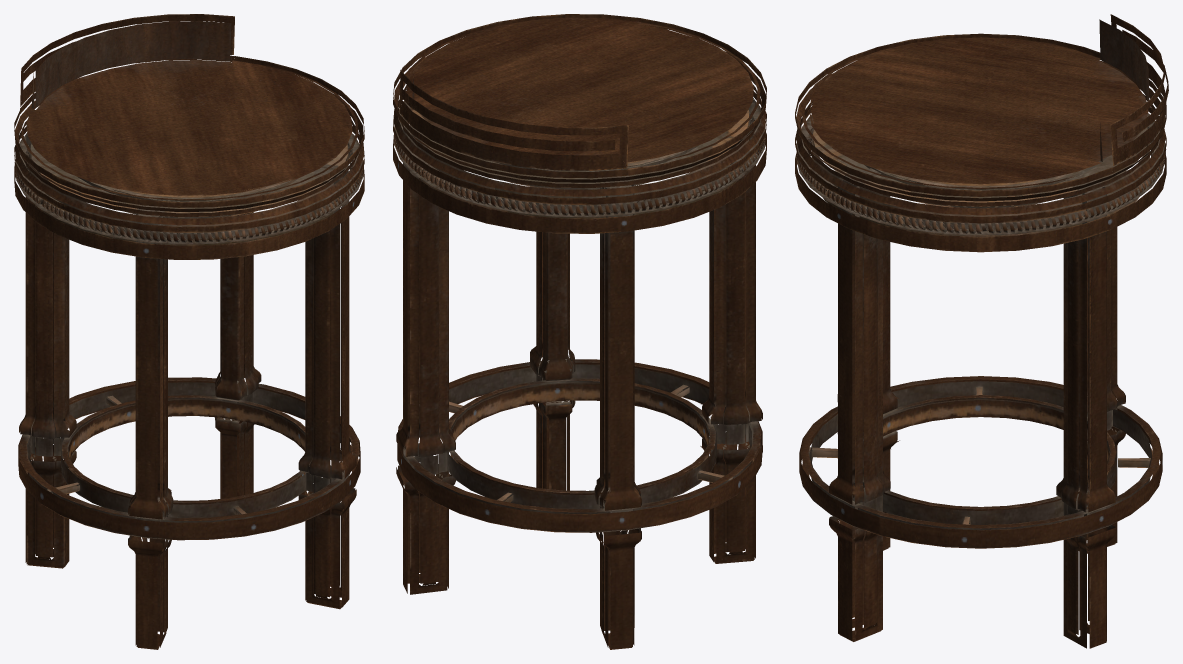
The model's file is Stool.fbx.
3 views of the same model, side by side, from view 1: azimuth 30°, elevation 25°; view 2: azimuth 150°, elevation 25°; view 3: azimuth 270°, elevation 25° (orthographic). The views are drawn at different scales.
Parts seen in each view (by area): view 1: bar_chair_round_01; view 2: bar_chair_round_01; view 3: bar_chair_round_01.
Boxes of the visible parts, bbox=[...] form: bar_chair_round_01: bbox=[14, 14, 364, 649]; bar_chair_round_01: bbox=[393, 14, 766, 649]; bar_chair_round_01: bbox=[795, 14, 1168, 648].
Bounding box in the file's own units: 50.21 × 77.87 × 50.51.
